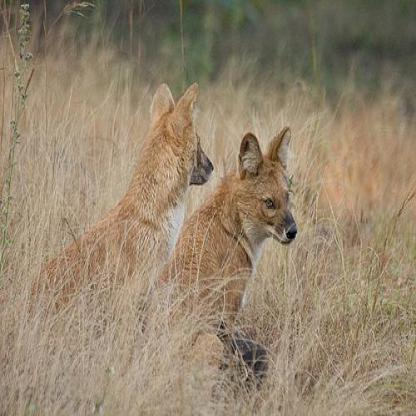dhole: (31, 81, 212, 360), (142, 122, 296, 390)
